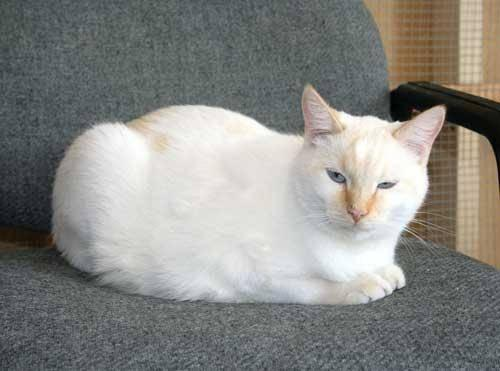cat: (52, 85, 445, 303)
